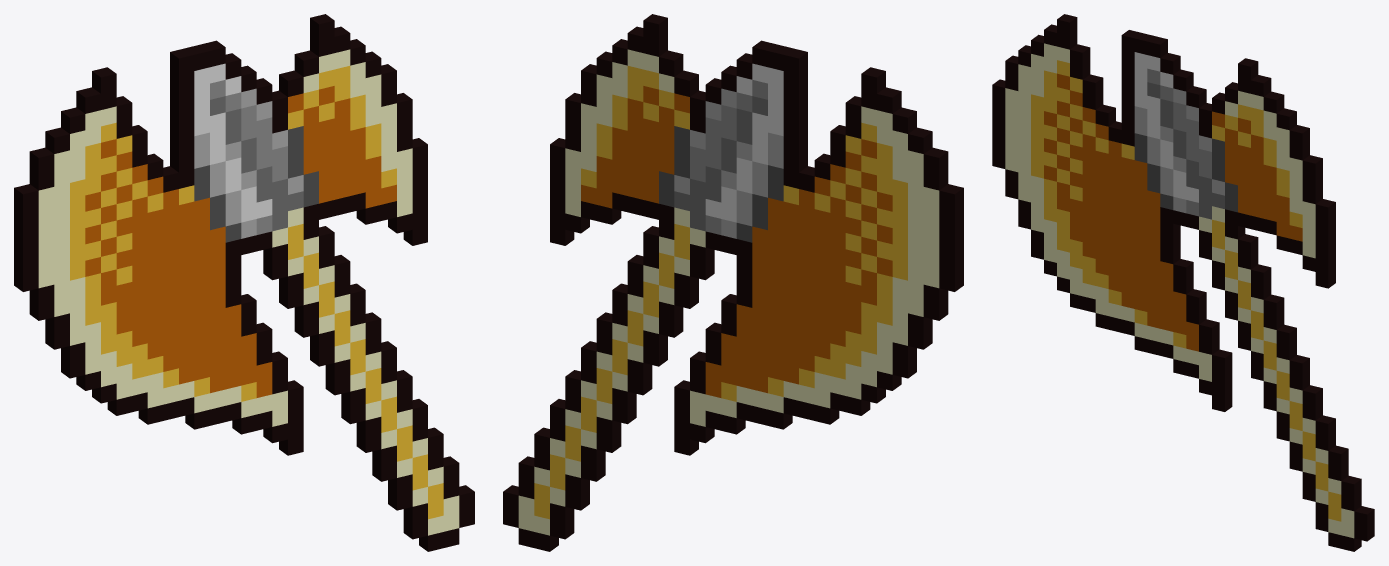
Rendered from W_Axe010.fbx.
3 renders of one model, left to right at view 1: azimuth 30°, elevation 25°; view 2: azimuth 150°, elevation 25°; view 3: azimuth 330°, elevation 25°, orthographic. The views are drawn at different scales.
Visible parts, largest first — view 1: Default; view 2: Default; view 3: Default.
Part boxes in pixels (x1,y1,x2,y2): Default: (14, 14, 474, 551); Default: (503, 14, 963, 551); Default: (992, 14, 1374, 551).
Size of the model in its own units: 29 by 34 by 1.
1 material, 1 textured.
